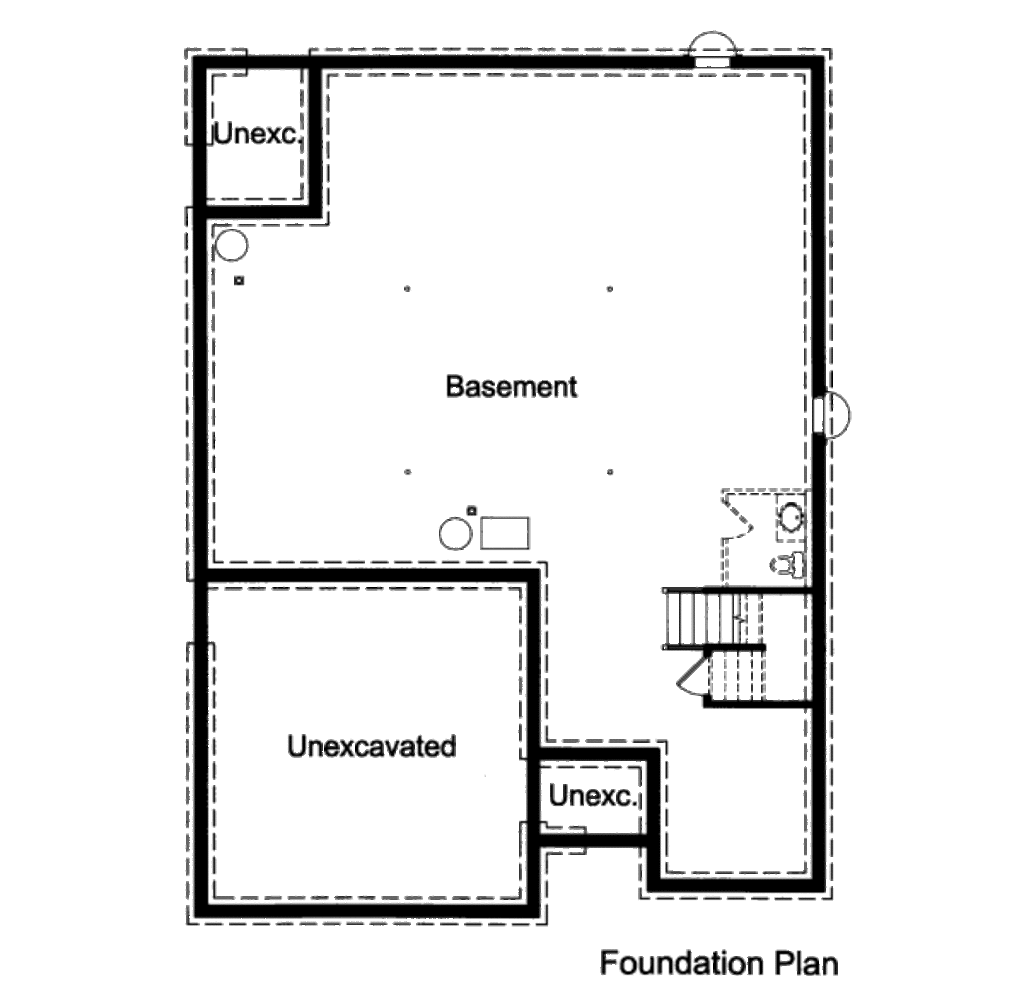door: (713, 497, 758, 543), (678, 655, 714, 699)
large_sink: (761, 549, 814, 591)
small_sink: (763, 488, 811, 540)
stairs: (652, 594, 796, 654)
